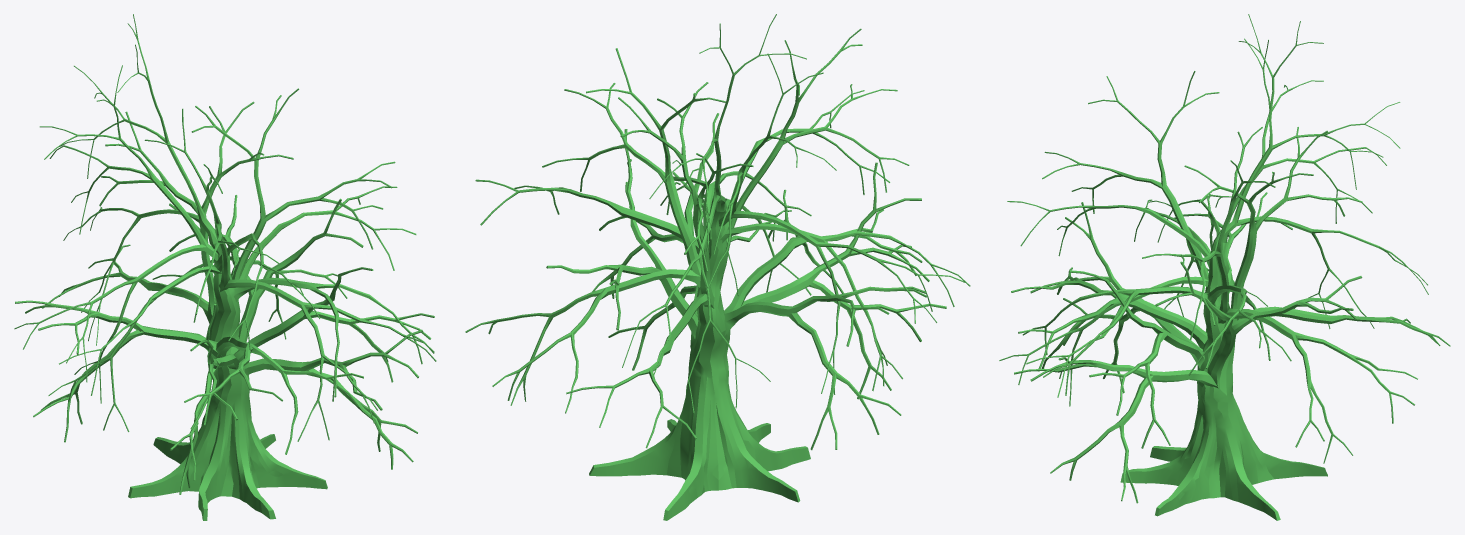
Rendered from jungle_giant_tree_A.fbx.
3 views of the same model, side by side, from view 1: azimuth 30°, elevation 25°; view 2: azimuth 150°, elevation 25°; view 3: azimuth 270°, elevation 25° (orthographic). The views are drawn at different scales.
Visible parts, largest first — view 1: jungle_giant_tree_A_trunk_roots, jungle_giant_tree_A_branch_C, jungle_giant_tree_A_branch_A, jungle_giant_tree_A_branch_B, jungle_giant_tree_A_branch_F, jungle_giant_tree_A_branch_E, jungle_giant_tree_A_branch_I, jungle_giant_tree_A_branch_D, jungle_giant_tree_A_branch_G, jungle_giant_tree_A_branch_J, jungle_giant_tree_A_branch_H; view 2: jungle_giant_tree_A_trunk_roots, jungle_giant_tree_A_branch_D, jungle_giant_tree_A_branch_C, jungle_giant_tree_A_branch_B, jungle_giant_tree_A_branch_E, jungle_giant_tree_A_branch_I, jungle_giant_tree_A_branch_A, jungle_giant_tree_A_branch_J, jungle_giant_tree_A_branch_H, jungle_giant_tree_A_branch_F, jungle_giant_tree_A_branch_G; view 3: jungle_giant_tree_A_trunk_roots, jungle_giant_tree_A_branch_A, jungle_giant_tree_A_branch_D, jungle_giant_tree_A_branch_B, jungle_giant_tree_A_branch_E, jungle_giant_tree_A_branch_F, jungle_giant_tree_A_branch_C, jungle_giant_tree_A_branch_J, jungle_giant_tree_A_branch_G, jungle_giant_tree_A_branch_I, jungle_giant_tree_A_branch_H.
Boxes of the visible parts, box(x1,y1,x2,y2) form: jungle_giant_tree_A_trunk_roots: box(128, 243, 327, 520); jungle_giant_tree_A_branch_C: box(15, 300, 363, 454); jungle_giant_tree_A_branch_A: box(169, 195, 422, 469); jungle_giant_tree_A_branch_B: box(170, 267, 434, 494); jungle_giant_tree_A_branch_F: box(144, 108, 436, 441); jungle_giant_tree_A_branch_E: box(42, 101, 293, 323); jungle_giant_tree_A_branch_I: box(14, 65, 218, 403); jungle_giant_tree_A_branch_D: box(152, 88, 395, 339); jungle_giant_tree_A_branch_G: box(234, 186, 434, 401); jungle_giant_tree_A_branch_J: box(59, 14, 217, 345); jungle_giant_tree_A_branch_H: box(48, 233, 320, 431); jungle_giant_tree_A_trunk_roots: box(589, 209, 810, 520); jungle_giant_tree_A_branch_D: box(465, 48, 725, 413); jungle_giant_tree_A_branch_C: box(724, 189, 926, 450); jungle_giant_tree_A_branch_B: box(587, 113, 946, 399); jungle_giant_tree_A_branch_E: box(566, 82, 753, 448); jungle_giant_tree_A_branch_I: box(706, 53, 965, 394); jungle_giant_tree_A_branch_A: box(546, 129, 771, 370); jungle_giant_tree_A_branch_J: box(622, 14, 806, 413); jungle_giant_tree_A_branch_H: box(719, 90, 970, 391); jungle_giant_tree_A_branch_F: box(660, 28, 909, 295); jungle_giant_tree_A_branch_G: box(475, 171, 811, 253); jungle_giant_tree_A_trunk_roots: box(1120, 241, 1327, 520); jungle_giant_tree_A_branch_A: box(1014, 261, 1362, 503); jungle_giant_tree_A_branch_D: box(1142, 127, 1417, 463); jungle_giant_tree_A_branch_B: box(1030, 202, 1204, 448); jungle_giant_tree_A_branch_E: box(1184, 127, 1450, 346); jungle_giant_tree_A_branch_F: box(999, 71, 1219, 406); jungle_giant_tree_A_branch_C: box(1011, 192, 1292, 371); jungle_giant_tree_A_branch_J: box(1214, 14, 1428, 328); jungle_giant_tree_A_branch_G: box(1022, 285, 1291, 395); jungle_giant_tree_A_branch_I: box(1148, 38, 1386, 306); jungle_giant_tree_A_branch_H: box(1007, 199, 1210, 316).
Bounding box in the file's own units: 1078 × 1168 × 1092.
